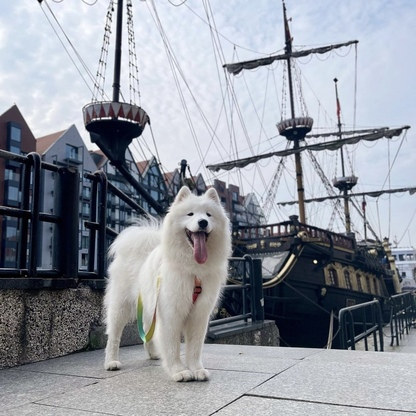samoyed: (97, 182, 235, 386)
